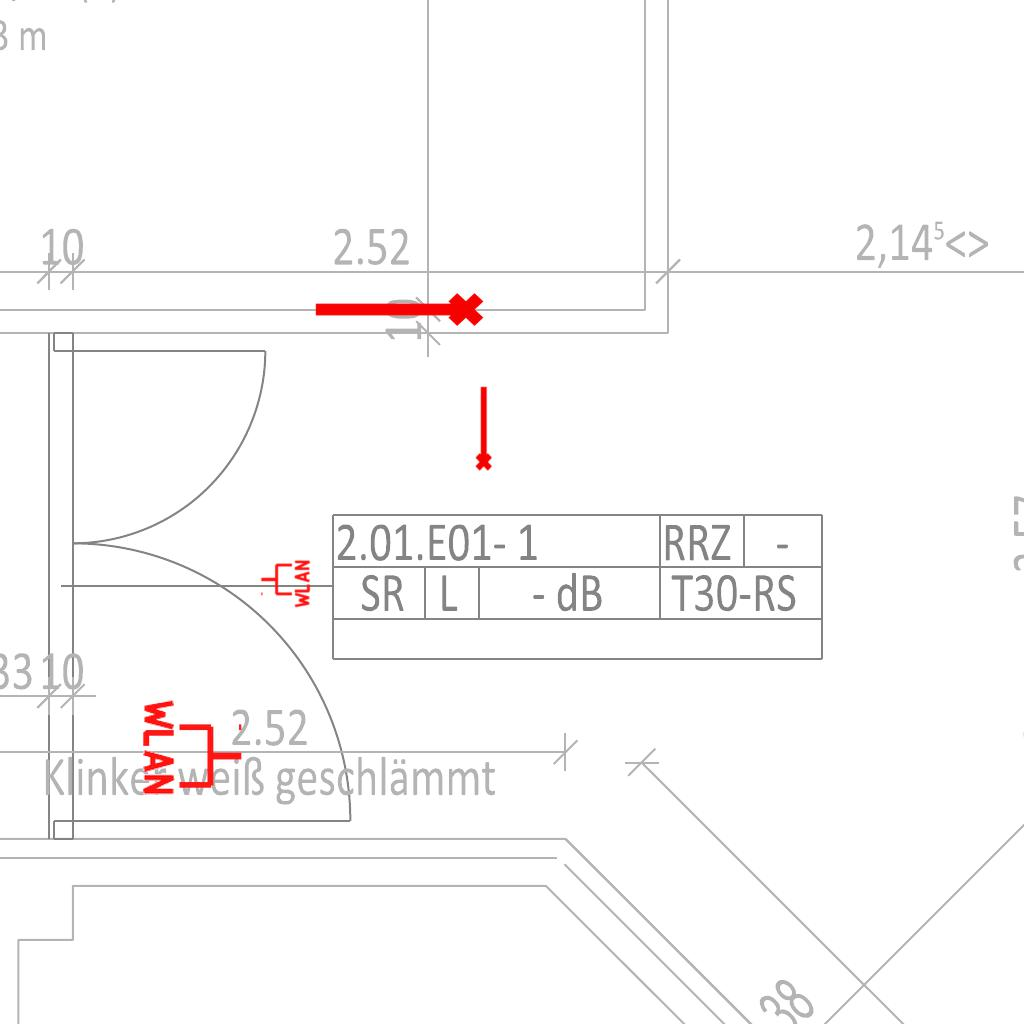ASR_Ansaugoeffnung: (310, 289, 486, 335), (471, 384, 494, 472)
WLAN: (141, 695, 246, 799), (259, 558, 311, 610)
